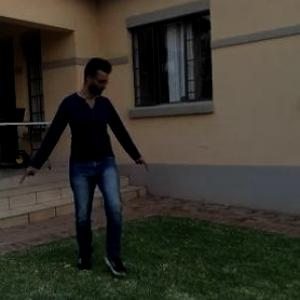land: (26, 48, 169, 292)
